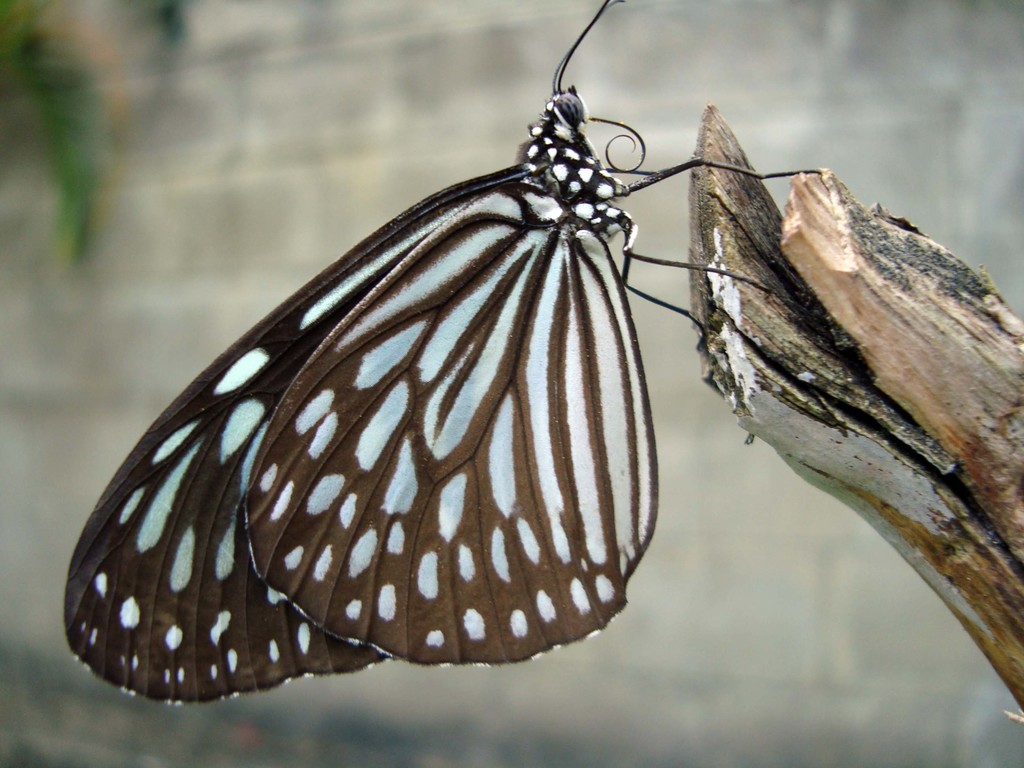Butterfly: (42, 112, 754, 711)
